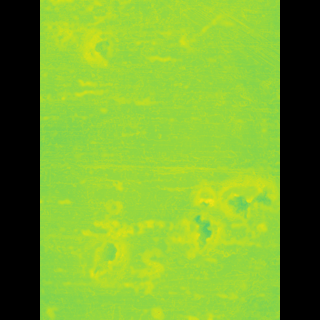Loch: (203, 174, 247, 234), (101, 234, 131, 288), (174, 212, 202, 257), (104, 27, 128, 66), (184, 183, 201, 212), (77, 25, 96, 47)
